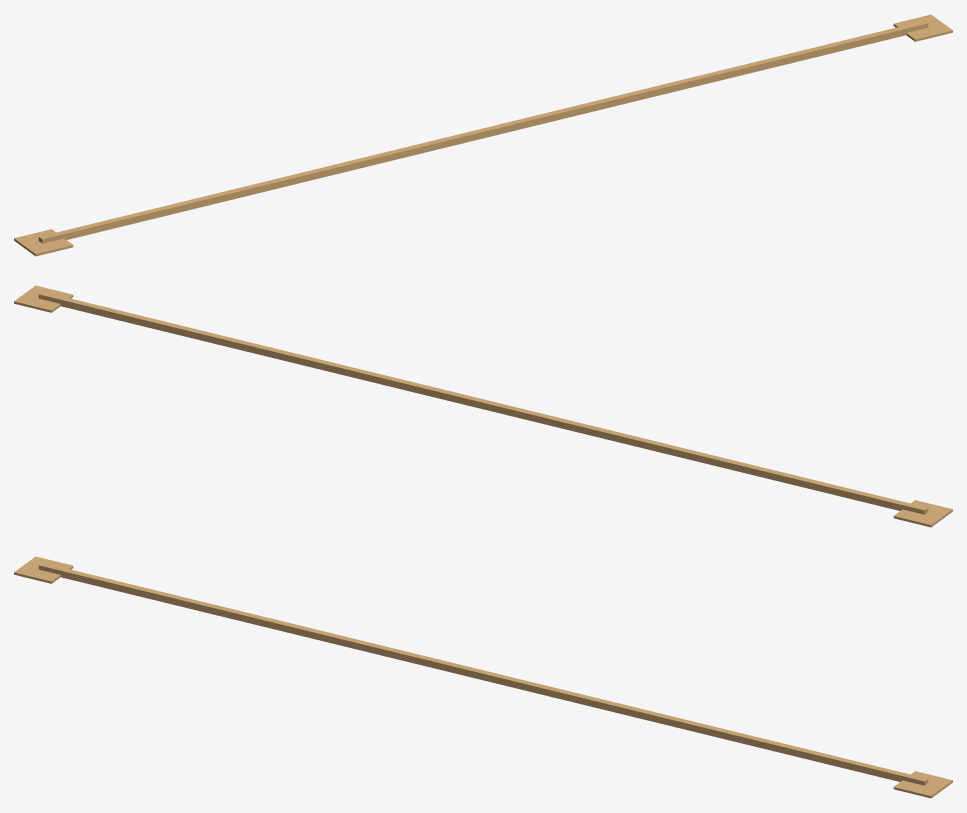
Rendered from board.glb.
The picture shows the model from 3 angles, top to bottom: view 1: azimuth 30°, elevation 25°; view 2: azimuth 150°, elevation 25°; view 3: azimuth 330°, elevation 25°; orthographic projection.
Visible parts, largest first — view 1: Unified_Net_2_Island_0, Unified_Net_1_Island_1, Unified_Net_1_Island_2; view 2: Unified_Net_2_Island_0, Unified_Net_1_Island_1, Unified_Net_1_Island_2; view 3: Unified_Net_2_Island_0, Unified_Net_1_Island_2, Unified_Net_1_Island_1.
Boxes of the visible parts, left/top/right/bottom form: Unified_Net_2_Island_0: left=38, top=20, right=928, bottom=243; Unified_Net_1_Island_1: left=14, top=229, right=73, bottom=256; Unified_Net_1_Island_2: left=893, top=14, right=952, bottom=41; Unified_Net_2_Island_0: left=38, top=291, right=928, bottom=514; Unified_Net_1_Island_1: left=893, top=500, right=952, bottom=527; Unified_Net_1_Island_2: left=14, top=285, right=73, bottom=312; Unified_Net_2_Island_0: left=38, top=562, right=928, bottom=785; Unified_Net_1_Island_2: left=893, top=771, right=952, bottom=798; Unified_Net_1_Island_1: left=14, top=556, right=73, bottom=583.
Bounding box in the file's own units: 0.0146 × 0.0001 × 0.0006.
